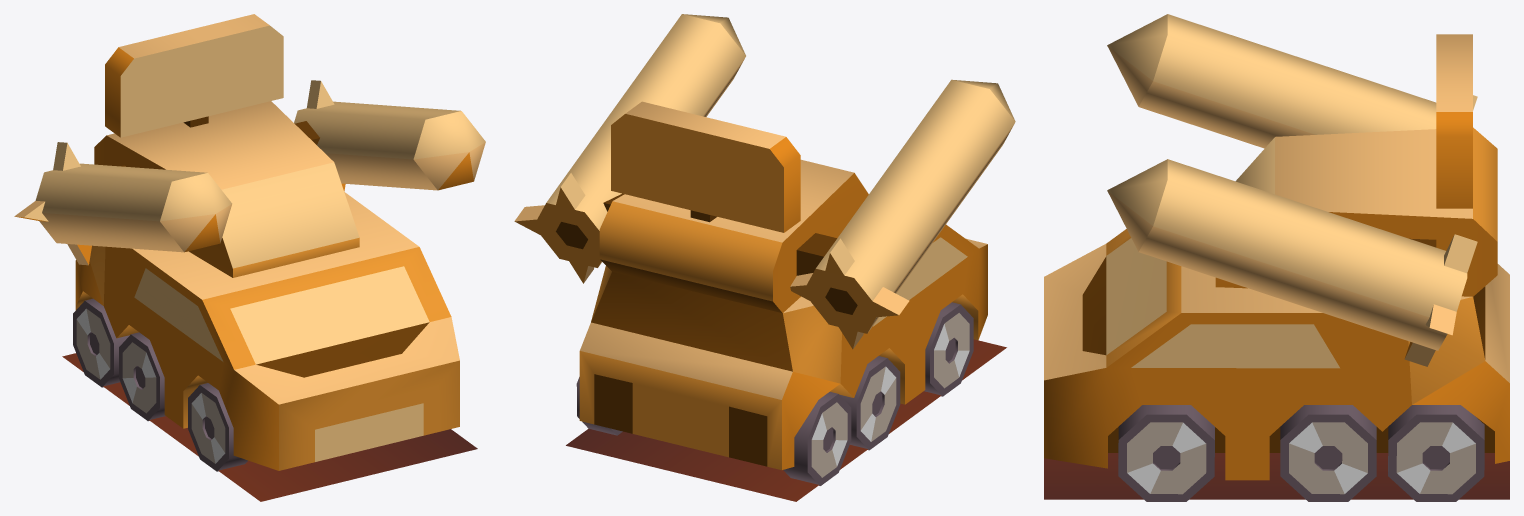
File: MissileMesh.AmberBlaze.glb
3 renders of one model, left to right at view 1: azimuth 30°, elevation 25°; view 2: azimuth 150°, elevation 25°; view 3: azimuth 270°, elevation 25°, orthographic. The views are drawn at different scales.
Visible parts, largest first — view 1: MissileMesh.AmberBlaze; view 2: MissileMesh.AmberBlaze; view 3: MissileMesh.AmberBlaze.
Part boxes in pixels (left/top/right/bottom): MissileMesh.AmberBlaze: left=14, top=14, right=485, bottom=501; MissileMesh.AmberBlaze: left=514, top=14, right=1015, bottom=501; MissileMesh.AmberBlaze: left=1044, top=14, right=1509, bottom=501.
Size of the model in its own units: 2 by 1.65 by 1.9.
1 material, 1 textured.
